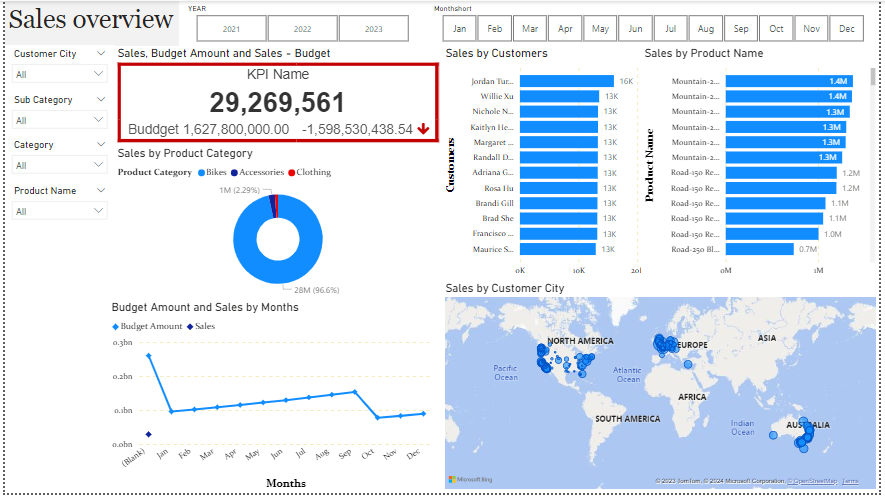

What the dashboard file says about the page in this screenshot:
{"tool":"powerbi","page":{"name":"Sales Overview","canvas":[1280,720],"ordinal":0},"visuals":[{"type":"textbox","box":[0,0,1280,65.5],"z":0},{"type":"slicer","fields":{"Values":["DM_Customer.Customer City"]},"box":[0,63.8,159.6,67.2],"z":1000},{"type":"slicer","fields":{"Values":["DM_Products.Sub Category"]},"box":[0,131,159.6,67.2],"z":2000},{"type":"slicer","fields":{"Values":["DM_Products.Product Category"]},"box":[0,198.2,159.6,67.2],"z":3000},{"type":"slicer","fields":{"Values":["DM_Products.Product Name"]},"box":[0,265.4,159.6,67.2],"z":4000},{"type":"slicer","fields":{"Values":["DM_Calendar.YEAR"]},"box":[254.6,0,360,65.9],"z":5000},{"type":"slicer","fields":{"Values":["DM_Calendar.Monthshort"]},"box":[614.6,0,665.9,65.9],"z":6000},{"type":"BBED0A4D4D8D44CE93CF2DAFADEE466C","fields":{"actual":["FACT_InternetSales.Sales"],"target1":["FACT_Budgets.Budget Amount"],"target2":["Key Measurement.Sales - Budget"]},"box":[160,66.2,480,146.2],"z":7000},{"type":"donutChart","fields":{"Category":["DM_Products.Product Category"],"Y":["Key Measurement.Sales"]},"box":[160,212.5,480,225],"z":8000},{"type":"lineChart","fields":{"Category":["DM_Calendar.Monthshort"],"Y":["Key Measurement.Budget Amount","Key Measurement.Sales"]},"box":[151.2,437.5,480,282.5],"z":9000},{"type":"barChart","title":"Sales by Customers","fields":{"Y":["Key Measurement.Sales"],"Category":["DM_Customer.Full Name"]},"box":[640,66.2,310,343.8],"z":10000},{"type":"barChart","fields":{"Y":["Key Measurement.Sales"],"Category":["DM_Products.Product Name"]},"box":[930.7,65.9,348.3,343.9],"z":11000},{"type":"map","fields":{"Category":["DM_Customer.Customer City"],"Size":["Key Measurement.Sales"]},"box":[640,410,640,310],"z":13000}]}

Visuals, with their boxes in screenshot pixels (x1, y1, x2, y2), scaled from the page's 1280x720 canvas onto the 885x498 screenshot:
textbox: [x1=0, y1=0, x2=884, y2=45]
slicer - DM_Customer.Customer City: [x1=0, y1=44, x2=110, y2=91]
slicer - DM_Products.Sub Category: [x1=0, y1=91, x2=110, y2=137]
slicer - DM_Products.Product Category: [x1=0, y1=137, x2=110, y2=184]
slicer - DM_Products.Product Name: [x1=0, y1=184, x2=110, y2=230]
slicer - DM_Calendar.YEAR: [x1=176, y1=0, x2=425, y2=46]
slicer - DM_Calendar.Monthshort: [x1=425, y1=0, x2=884, y2=46]
BBED0A4D4D8D44CE93CF2DAFADEE466C - FACT_InternetSales.Sales x FACT_Budgets.Budget Amount: [x1=111, y1=46, x2=442, y2=147]
donutChart - DM_Products.Product Category x Key Measurement.Sales: [x1=111, y1=147, x2=442, y2=303]
lineChart - DM_Calendar.Monthshort x Key Measurement.Budget Amount: [x1=105, y1=303, x2=436, y2=497]
"Sales by Customers" barChart: [x1=442, y1=46, x2=657, y2=284]
barChart - Key Measurement.Sales x DM_Products.Product Name: [x1=643, y1=46, x2=884, y2=283]
map - DM_Customer.Customer City x Key Measurement.Sales: [x1=442, y1=284, x2=884, y2=497]
